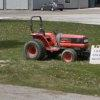Tractor: (14, 11, 100, 71)
